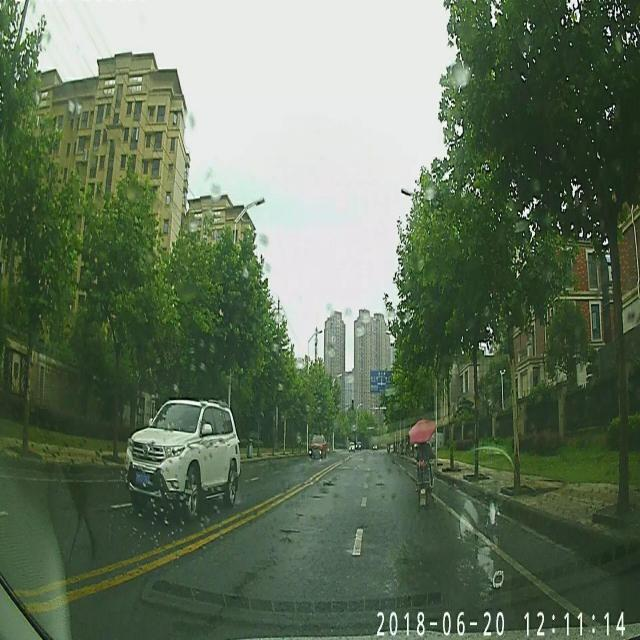car: (124, 400, 238, 516), (309, 434, 327, 460)
